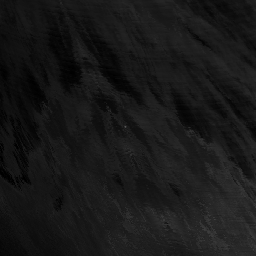Target: (122, 124, 126, 129)
